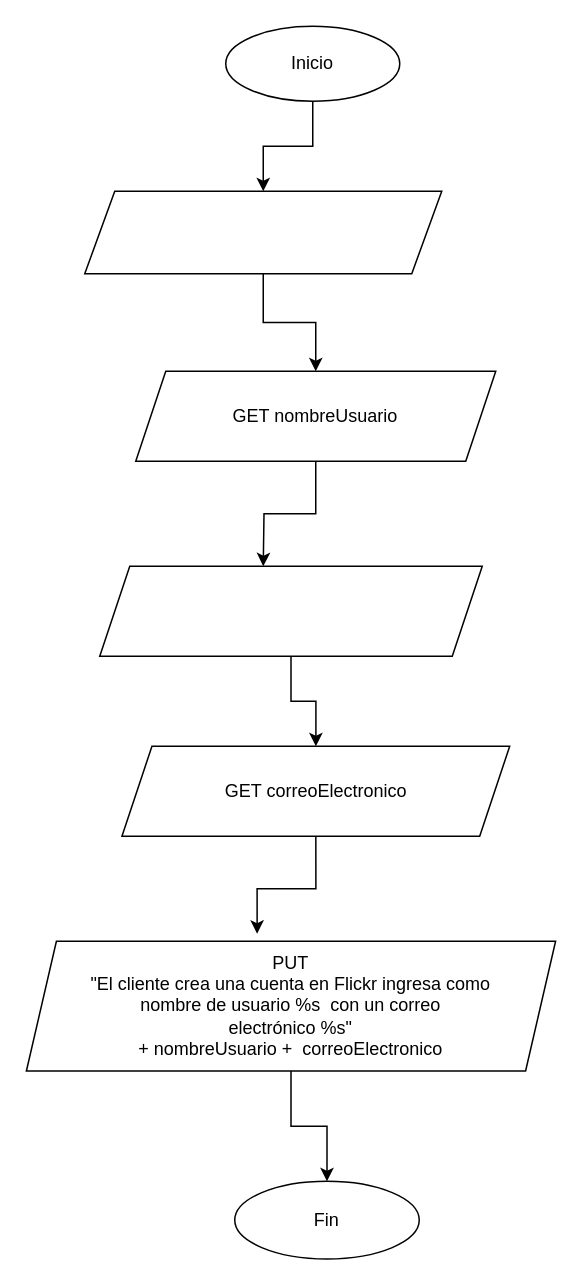
Image size: 582x1286. Some labels were removed from this diagram. Each missing label, with the centre of its shape:
"PUT Ingresa tu correo electrónico" goes at (290,610).
"PUT Ingresa un nombre e usuario" goes at (262,232).
